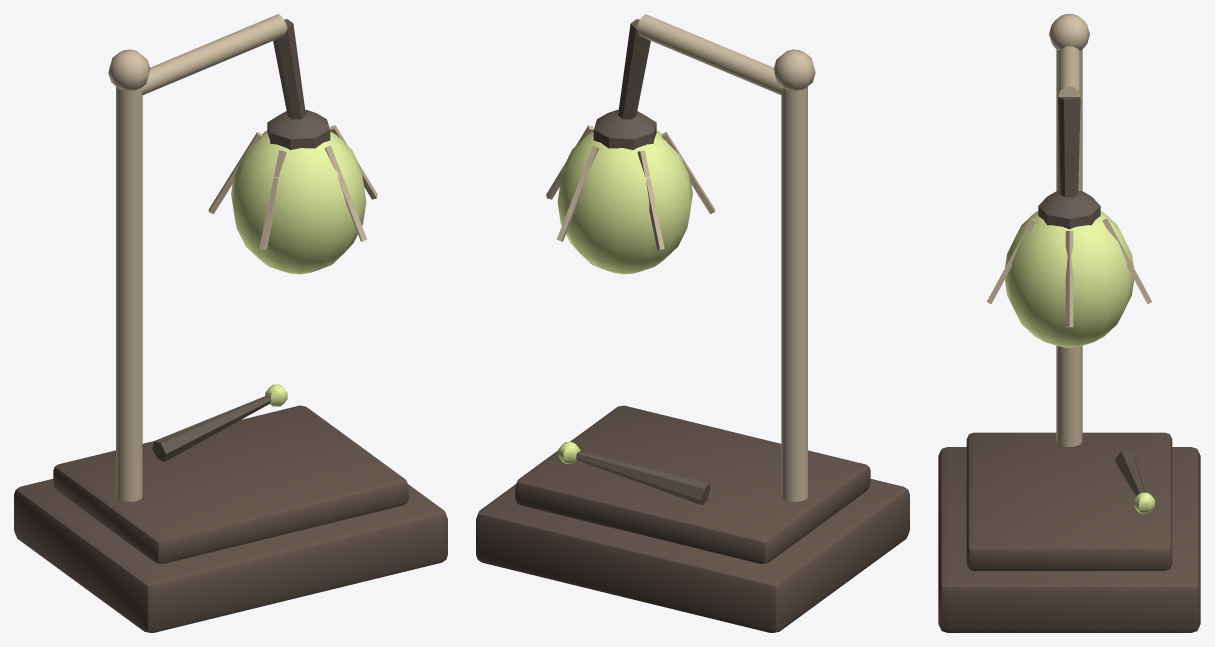
File: trophy_lure_lamp.gltf
The picture shows the model from 3 angles, left to right: view 1: azimuth 30°, elevation 25°; view 2: azimuth 150°, elevation 25°; view 3: azimuth 270°, elevation 25°; orthographic projection. The views are drawn at different scales.
Parts seen in each view (by area): view 1: Body; view 2: Body; view 3: Body.
Boxes of the visible parts, left/top/right/bottom form: Body: left=14, top=14, right=447, bottom=632; Body: left=476, top=14, right=909, bottom=632; Body: left=938, top=14, right=1200, bottom=632.
Size of the model in its own units: 0.36 by 0.592 by 0.28.
